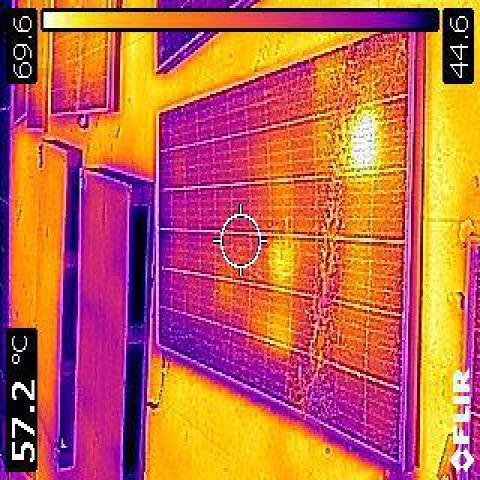fault: (347, 107, 380, 174), (268, 237, 293, 281)
